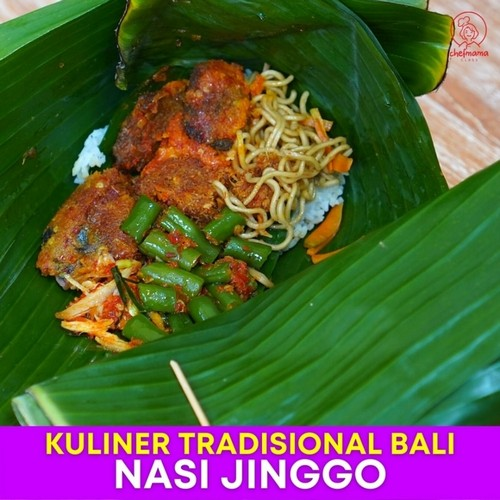nasi jinggo: (60, 48, 375, 428)
